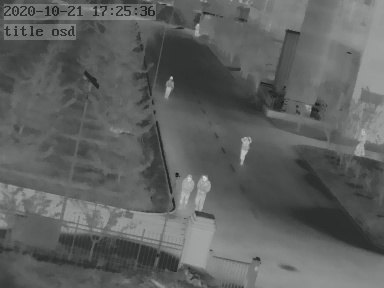person: (178, 171, 194, 211), (196, 174, 209, 210), (238, 132, 252, 164), (355, 128, 366, 158), (163, 74, 173, 100), (193, 22, 200, 38)
